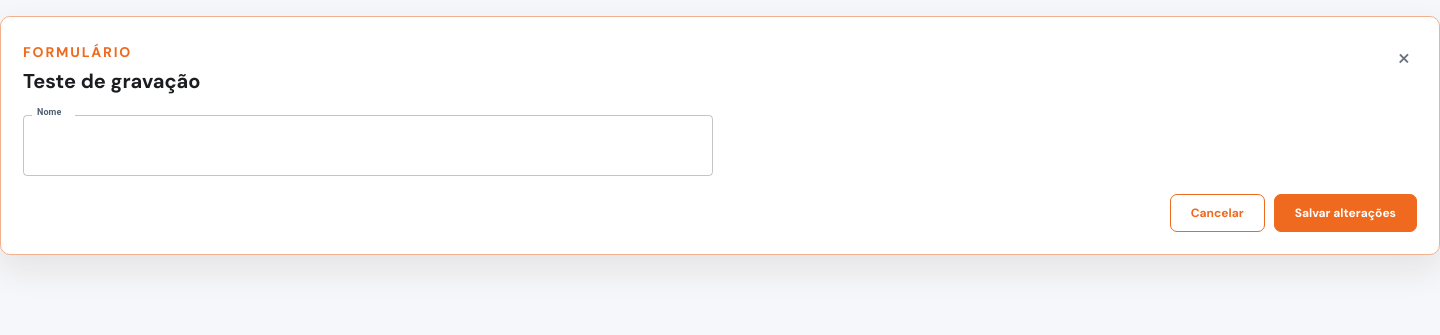
Test: Tech Store conectada à API › não mostra sucesso quando a gravação do formulário falha
This screenshot has width=1440, height=335.
Click the button "Salvar alterações".
click(1345, 213)  # box [1274,194,1417,232]
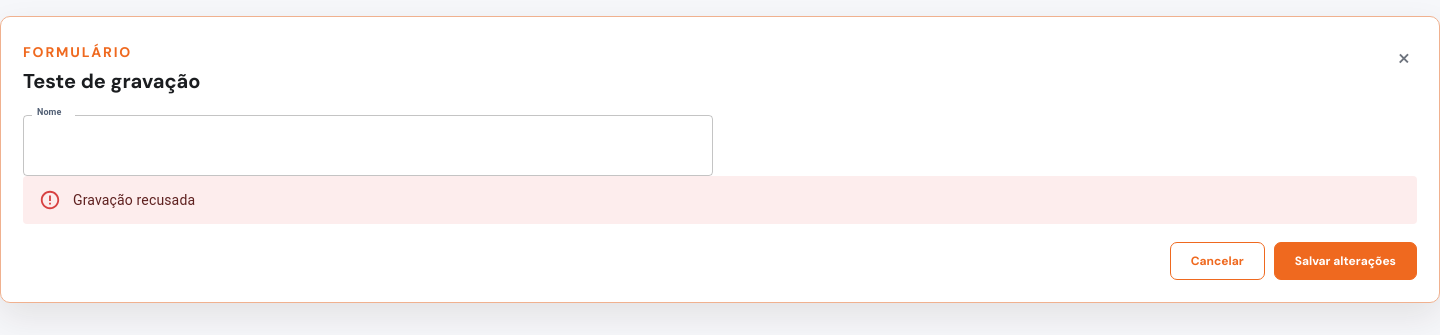
Result: the message reads "Gravação recusada" at [73,192,195,208]
